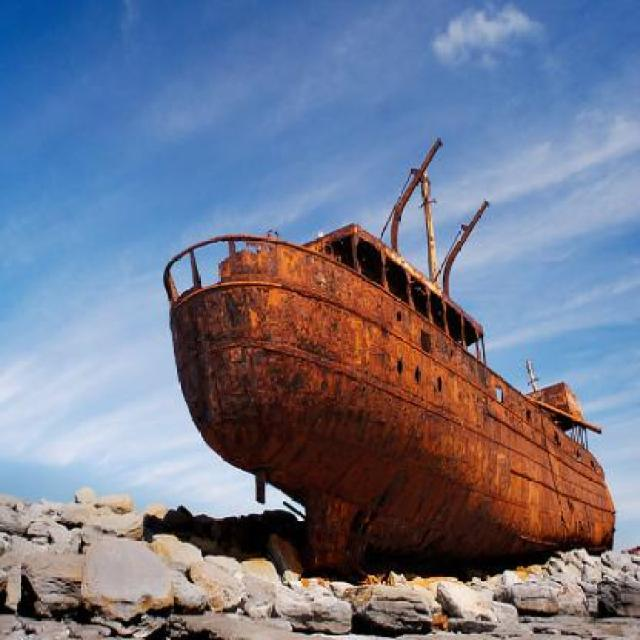corrosion: (162, 169, 616, 560)
